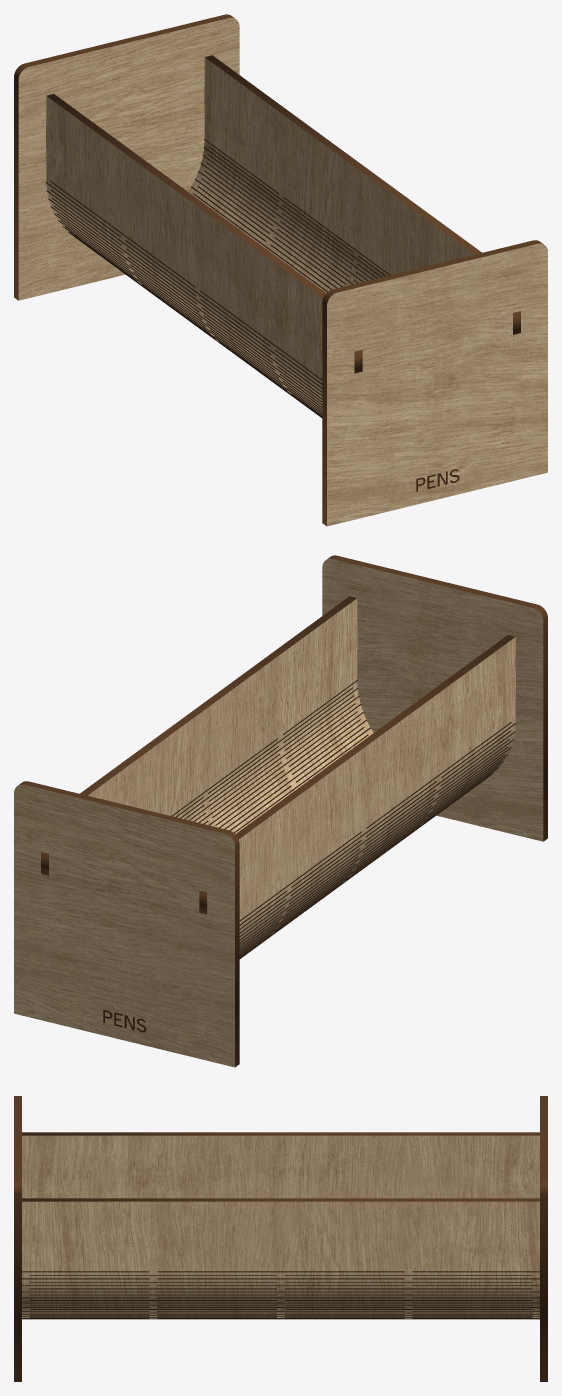
Rendered from pen-tray.glb.
3 renders of one model, top to bottom at view 1: azimuth 30°, elevation 25°; view 2: azimuth 150°, elevation 25°; view 3: azimuth 270°, elevation 25°, orthographic. The views are drawn at different scales.
Visible parts, largest first — view 1: body1, body0, body2, cutlineb1, cutline1; view 2: body1, body2, body0, cutlineb1, cutline1; view 3: body1, cutlineb1, body0, body2.
Boxes of the visible parts, left/top/right/bottom form: body1: left=46, top=55, right=520, bottom=415; body0: left=322, top=240, right=547, bottom=526; body2: left=14, top=14, right=239, bottom=300; cutlineb1: left=46, top=181, right=322, bottom=417; cutline1: left=191, top=139, right=390, bottom=292; body1: left=41, top=596, right=515, bottom=956; body2: left=14, top=781, right=239, bottom=1067; body0: left=322, top=555, right=547, bottom=841; cutlineb1: left=239, top=722, right=515, bottom=958; cutline1: left=171, top=680, right=370, bottom=833; body1: left=22, top=1132, right=539, bottom=1318; cutlineb1: left=22, top=1271, right=539, bottom=1319; body0: left=14, top=1096, right=21, bottom=1381; body2: left=540, top=1096, right=547, bottom=1381.
Size of the model in its own units: 0.084 by 0.084 by 0.2061.
4 materials, 1 textured.
